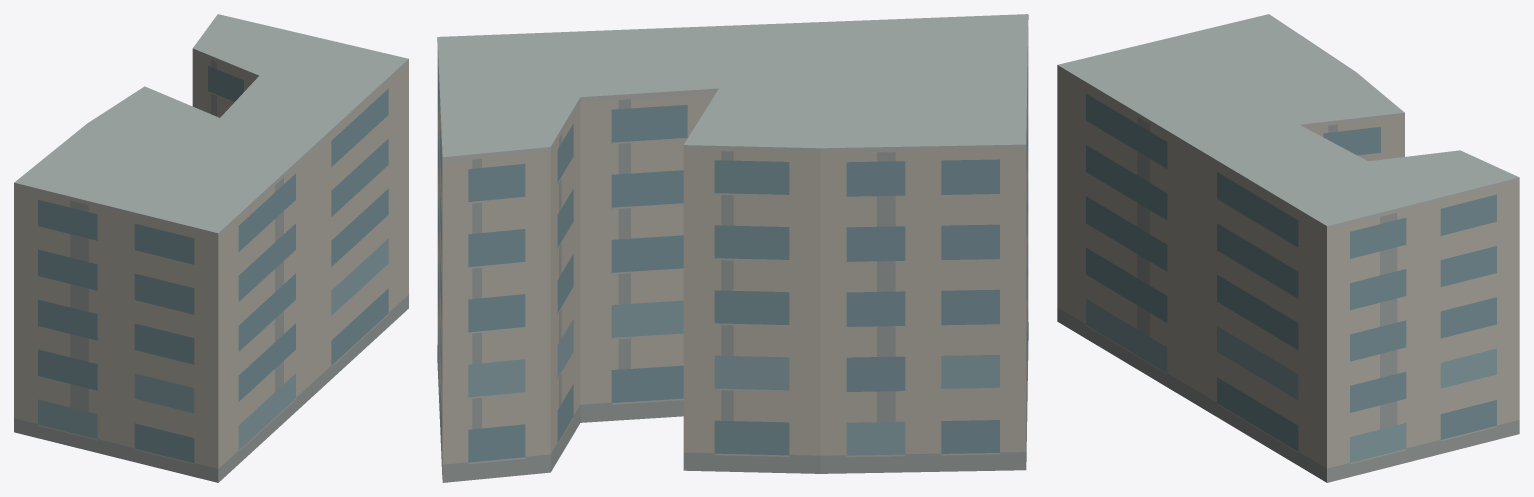
The model's file is residential-84ce2da4-771b-4006-8083-7072ece2eaf0.glb.
3 views of the same model, side by side, from view 1: azimuth 30°, elevation 25°; view 2: azimuth 150°, elevation 25°; view 3: azimuth 270°, elevation 25° (orthographic). The views are drawn at different scales.
Parts seen in each view (by area): view 1: residential-84ce2da4-771b-4006-8083-7072ece2eaf0.tmp; view 2: residential-84ce2da4-771b-4006-8083-7072ece2eaf0.tmp; view 3: residential-84ce2da4-771b-4006-8083-7072ece2eaf0.tmp.
Boxes of the visible parts, box(x1,y1,x2,y2) form: residential-84ce2da4-771b-4006-8083-7072ece2eaf0.tmp: box(14, 14, 408, 482); residential-84ce2da4-771b-4006-8083-7072ece2eaf0.tmp: box(437, 14, 1028, 482); residential-84ce2da4-771b-4006-8083-7072ece2eaf0.tmp: box(1057, 14, 1519, 482).
Bounding box in the file's own units: 27.05 × 15.25 × 24.9.
